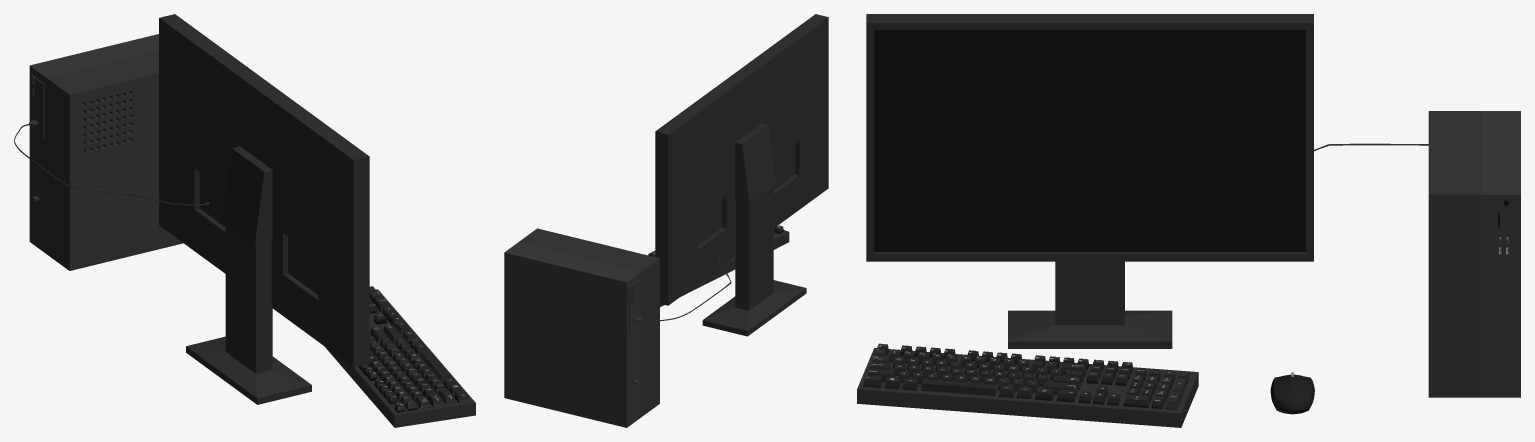
The model's file is monitor3.fbx.
3 renders of one model, left to right at view 1: azimuth 30°, elevation 25°; view 2: azimuth 150°, elevation 25°; view 3: azimuth 270°, elevation 25°, orthographic. The views are drawn at different scales.
Parts seen in each view (by area): view 1: Cube.001, Cube.002, Cube.004; view 2: Cube.001, Cube.002, Cube.004; view 3: Cube.001, Cube.002, Cube.004, Cube.
Boxes of the visible parts, x1=… form: Cube.001: x1=159, y1=14, x2=369, y2=404; Cube.002: x1=14, y1=34, x2=209, y2=270; Cube.004: x1=324, y1=286, x2=475, y2=427; Cube.001: x1=655, y1=14, x2=828, y2=336; Cube.002: x1=504, y1=228, x2=731, y2=427; Cube.004: x1=648, y1=225, x2=789, y2=306; Cube.001: x1=866, y1=14, x2=1313, y2=348; Cube.002: x1=1314, y1=111, x2=1520, y2=397; Cube.004: x1=857, y1=343, x2=1198, y2=427; Cube: x1=1270, y1=372, x2=1314, y2=414.
Bounding box in the file's own units: 247 × 271 × 504.
Materials: 9 (1 with a texture image).
